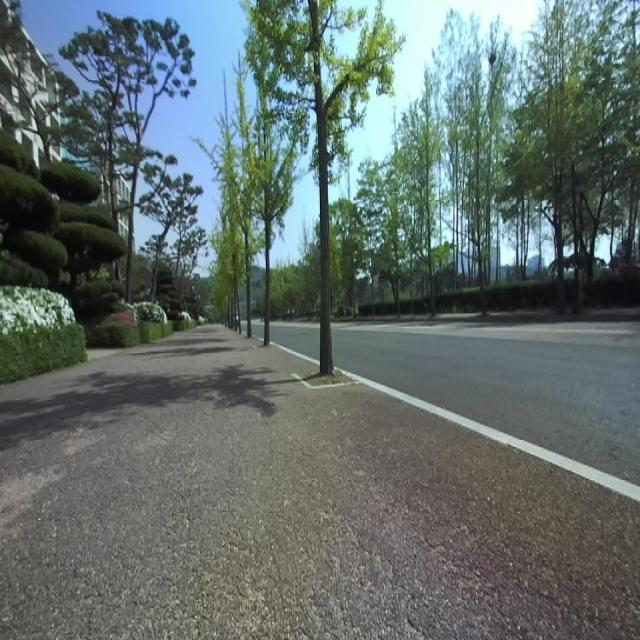sidewalk: (0, 325, 640, 639)
